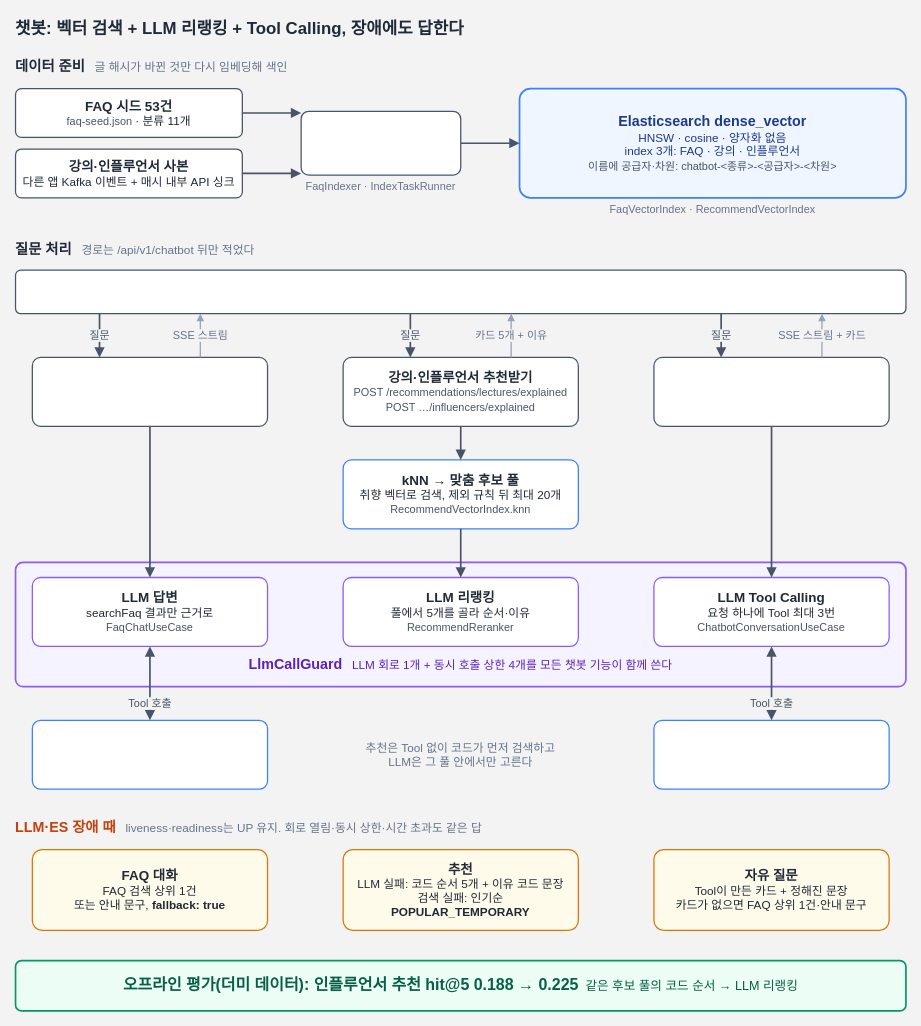
This 921x1026 diagram has some shape labels left out. Here are the shapes that lost their labels. From the top down, the box of each, then its label:
(300, 110, 461, 175): 임베딩 글을 벡터로
(15, 269, 906, 314): 로그인 회원 (챗봇 화면) 대화는 서버에 저장하지 않는다. 자유 질문은 FE가 요청마다 history를 보낸다
(31, 356, 268, 427): FAQ 대화 POST /chat/faq POST /chat/faq/stream
(653, 356, 889, 427): 자유 질문 POST /messages · /messages/stream {message, history}
(31, 719, 268, 789): searchFaq FAQ index kNN, 기준값 이상만 FaqTools
(653, 719, 889, 789): Tool 3개 searchFaq · recommendLectures recommendInfluencers
